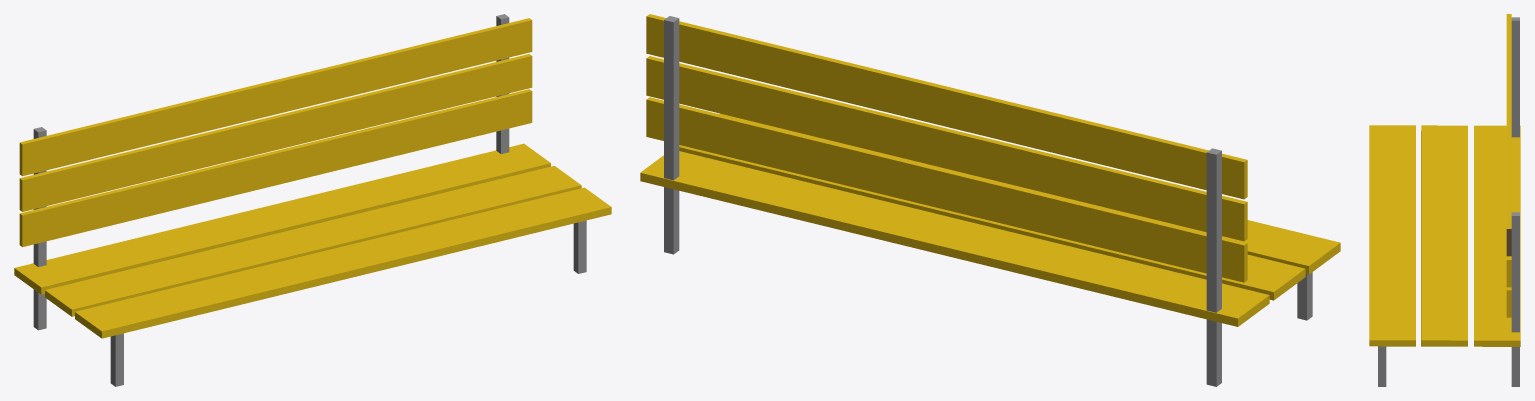
The model's file is banco 3  (3).fbx.
3 renders of one model, left to right at view 1: azimuth 30°, elevation 25°; view 2: azimuth 150°, elevation 25°; view 3: azimuth 270°, elevation 25°, orthographic. The views are drawn at different scales.
Visible parts, largest first — view 1: Cube.011; view 2: Cube.011; view 3: Cube.011.
Boxes of the visible parts, x1=… form: Cube.011: x1=14, y1=14, x2=611, y2=386; Cube.011: x1=640, y1=14, x2=1340, y2=386; Cube.011: x1=1369, y1=14, x2=1520, y2=386.
Size of the model in its own units: 543 by 201 by 162.
